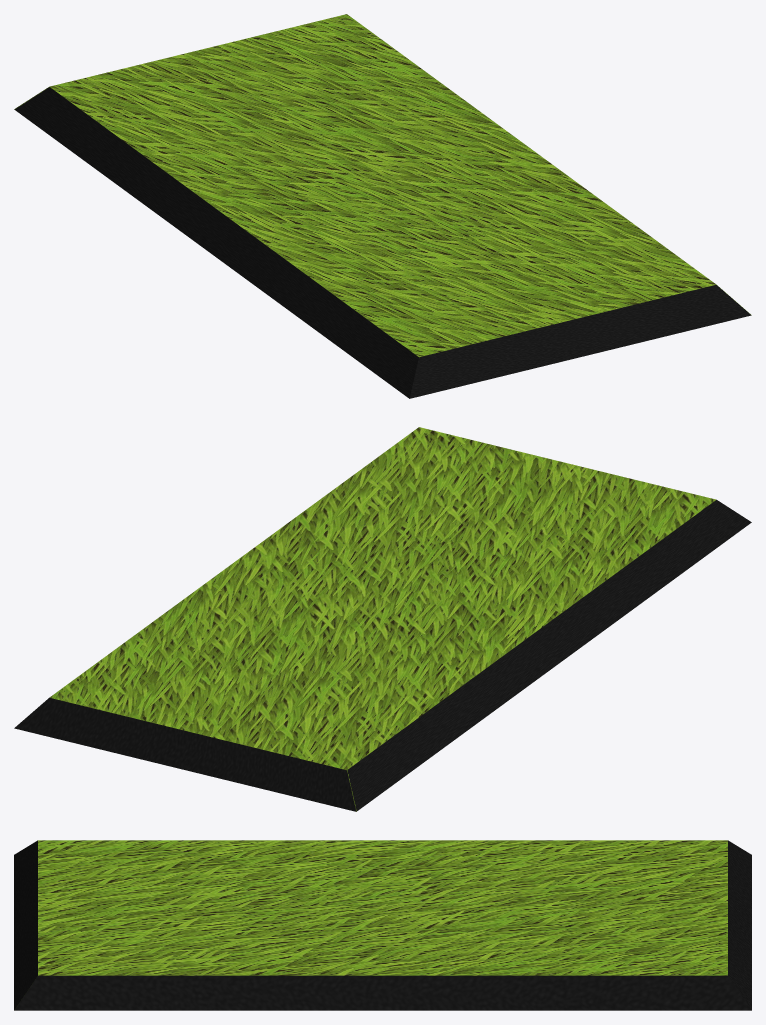
File: MiniatureBase30x60.glb
The picture shows the model from 3 angles, top to bottom: view 1: azimuth 30°, elevation 25°; view 2: azimuth 150°, elevation 25°; view 3: azimuth 270°, elevation 25°; orthographic projection. The views are drawn at different scales.
Visible parts, largest first — view 1: Cube; view 2: Cube; view 3: Cube.
Part boxes in pixels (left/top/right/bottom): Cube: left=14, top=14, right=751, bottom=398; Cube: left=14, top=427, right=751, bottom=811; Cube: left=14, top=840, right=751, bottom=1010.
Bounding box in the file's own units: 0.2996 × 0.0223 × 0.5995.
Materials: 1 (1 with a texture image).
